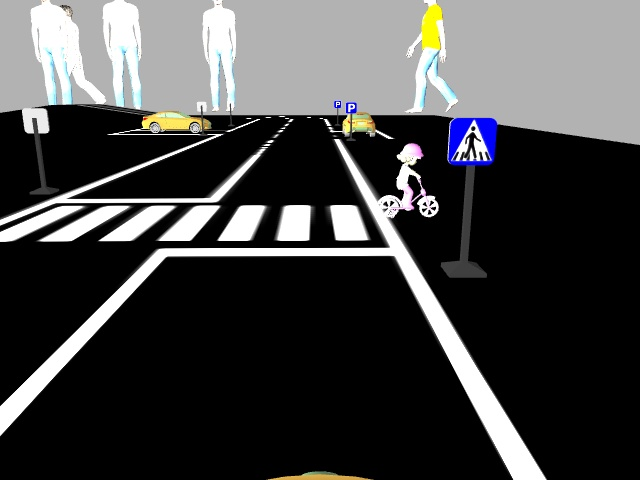Crosswalk: (448, 116, 495, 167)
Parking: (344, 101, 358, 115)
Pedestrian: (364, 143, 442, 218)
